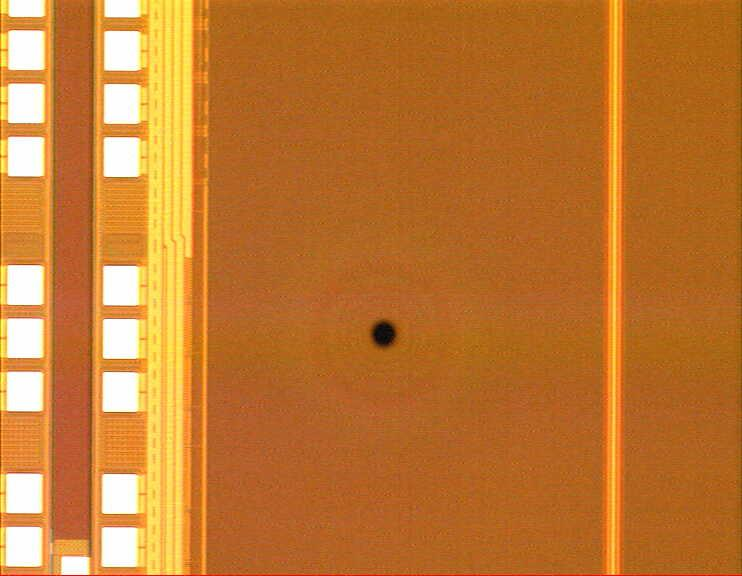PIQ PARTICLE: (367, 317, 403, 353)
